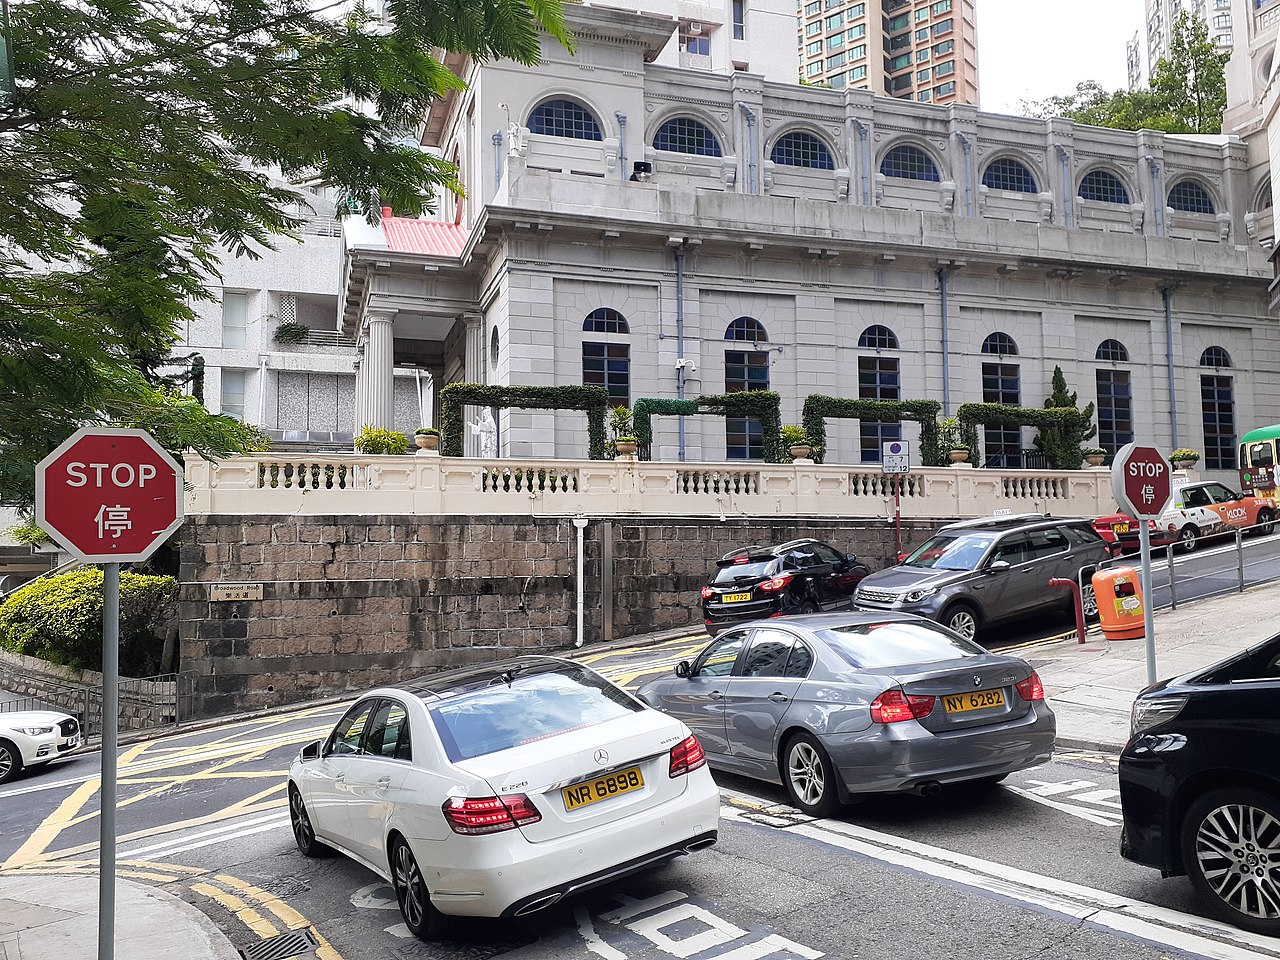Start Of No Stopping: (882, 432, 914, 478)
Stop: (40, 425, 190, 570), (1105, 438, 1177, 527)
